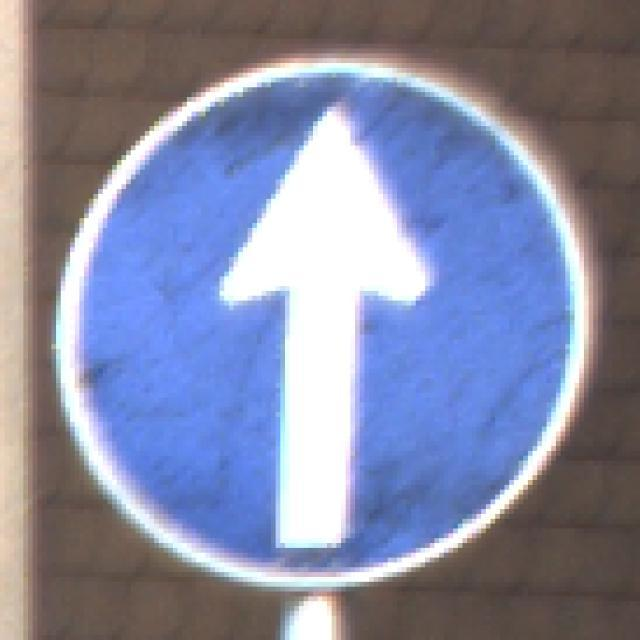compulsary ahead: (49, 44, 598, 588)
